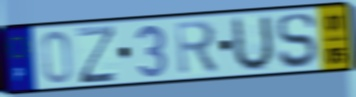0: (40, 29, 74, 85)
3: (134, 22, 169, 80)
R: (174, 18, 221, 78)
S: (275, 11, 318, 70)
U: (231, 13, 276, 75)
Z: (75, 23, 119, 86)
